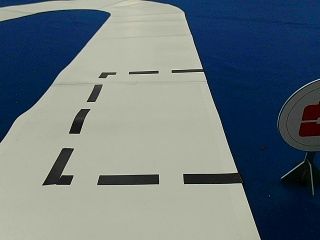company: (277, 81, 320, 149)
